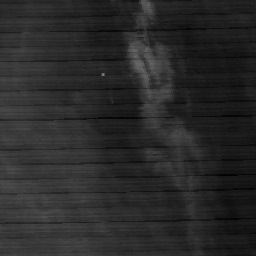Target: (99, 72, 107, 78)
